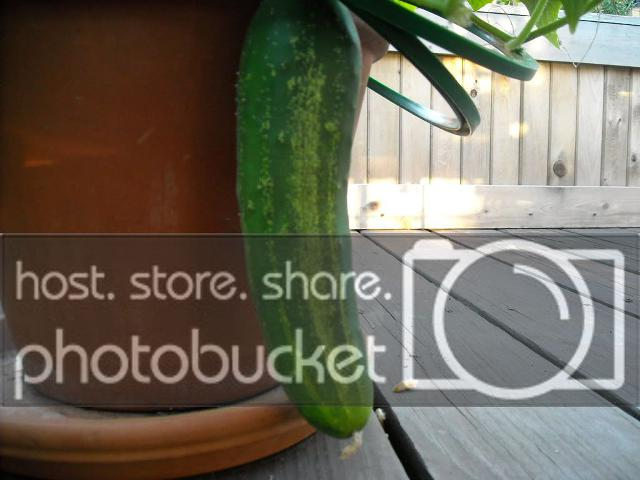cucumber: (236, 4, 373, 458)
